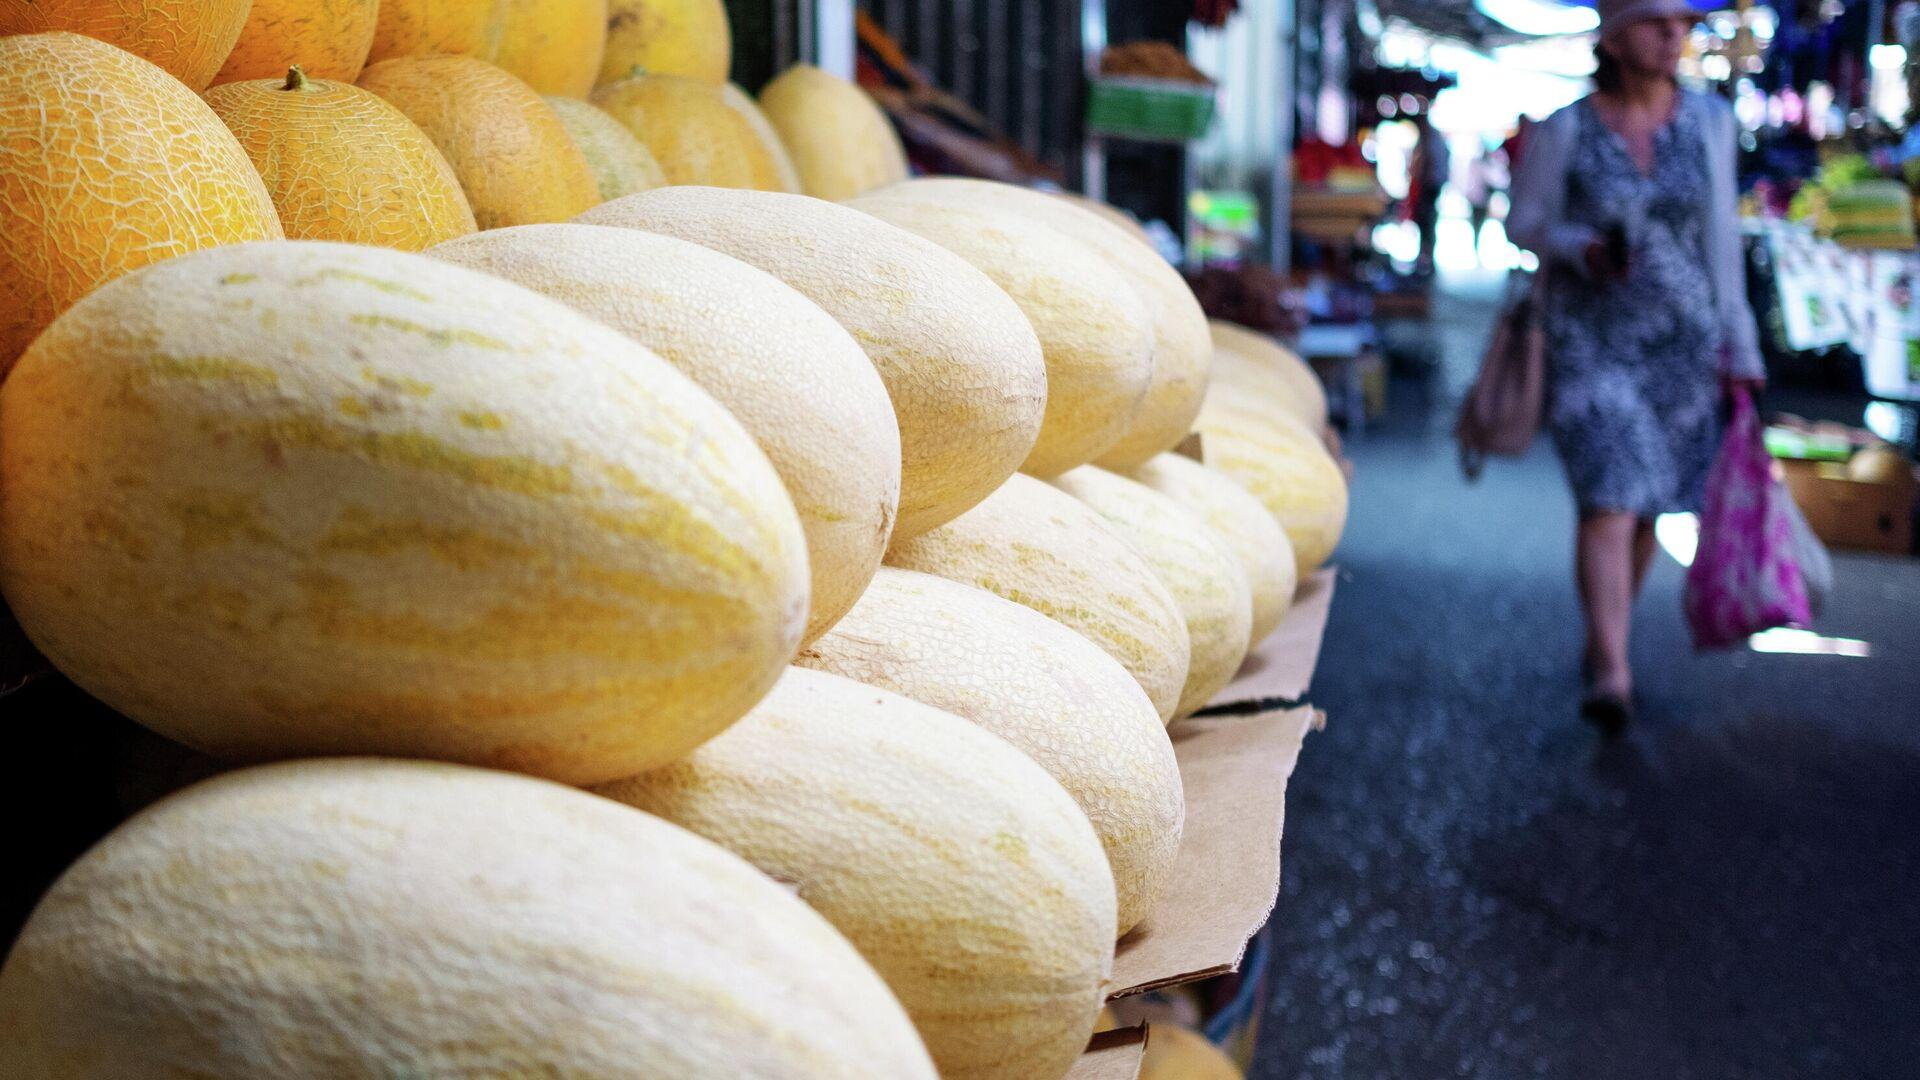melon: (1, 0, 1348, 1077)
